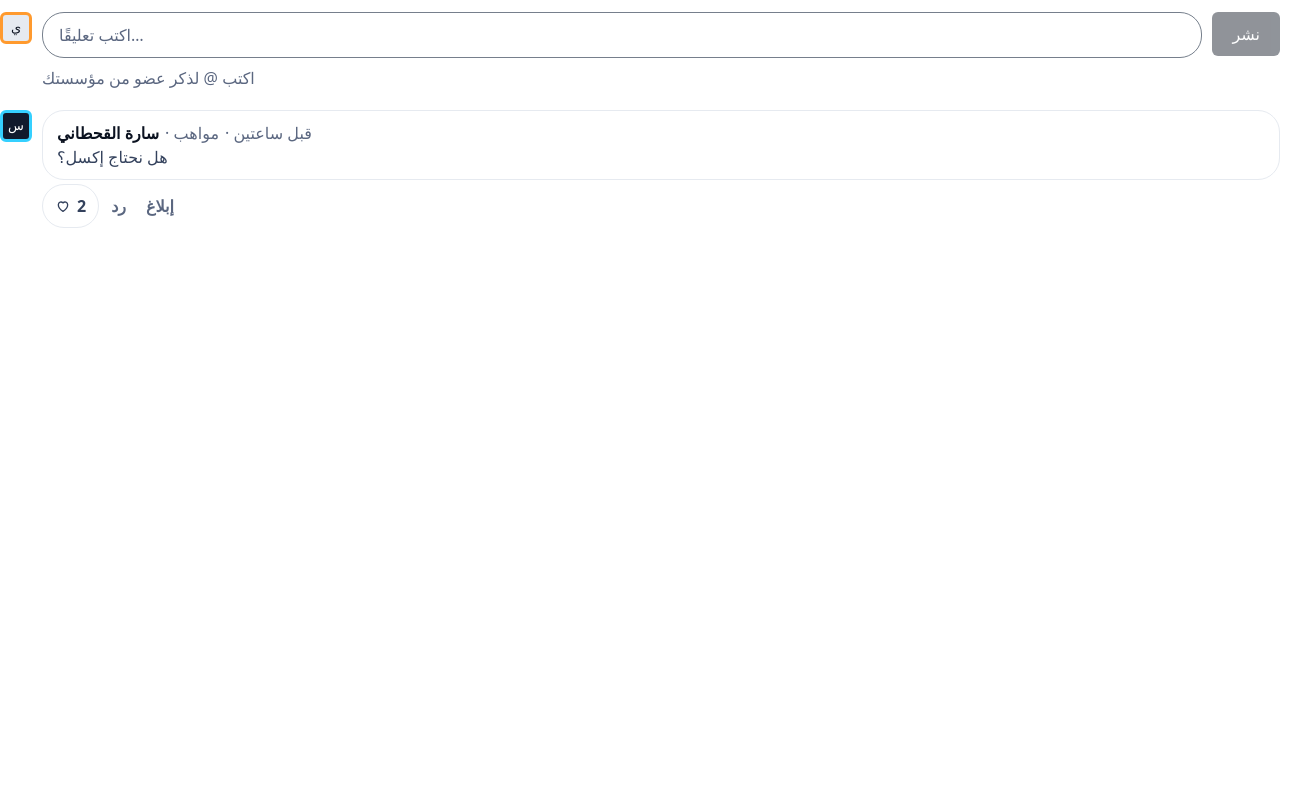
CommentItem › a failed like puts back what the server held and says so, persistently
Click the button named "إعجاب 2" at (71, 206), box [42, 184, 99, 228]
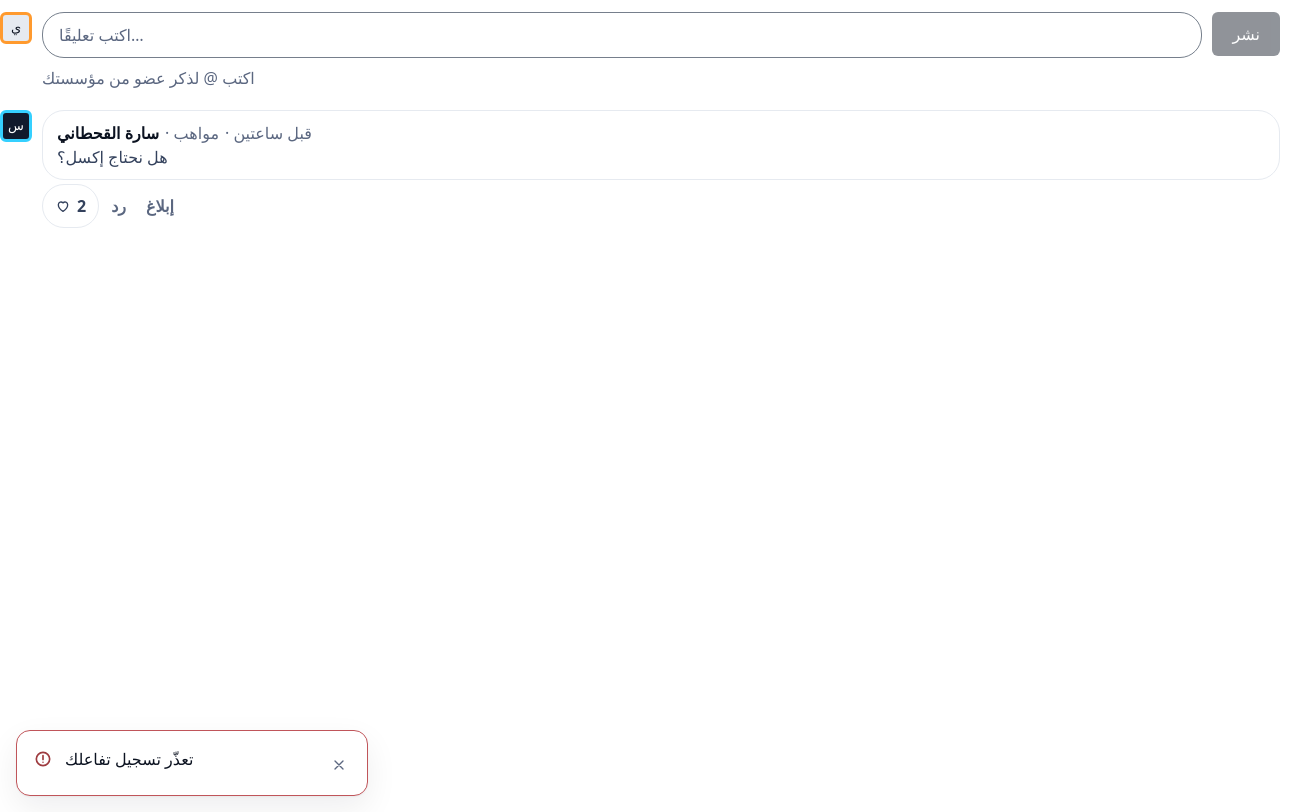
Expected: the text "تعذّر تسجيل تفاعلك" is shown, [65, 748, 193, 770]
